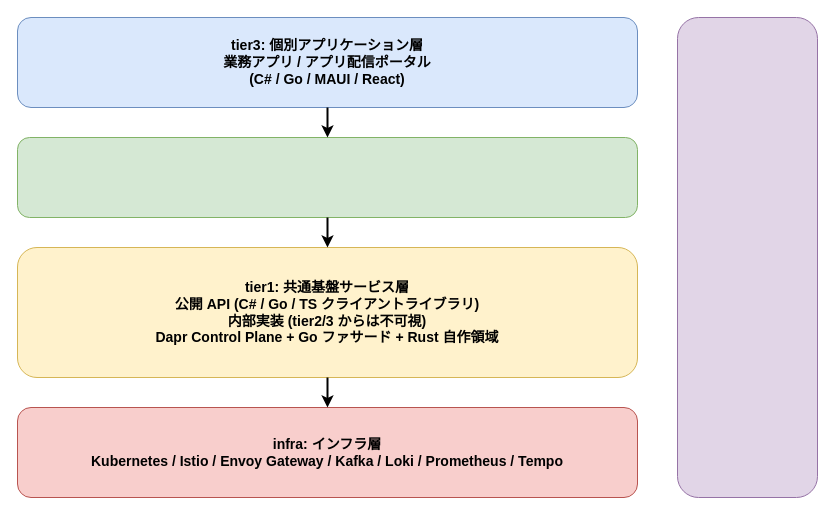
The diagram is 835 pixels wide and 515 high, and some of its shapes have lost their labels. The shapes that lost their labels are listed below. From the top down, each one's box as (x1, y1, x2, y2) in pixels, then its label:
(16, 136, 638, 218): tier2: ドメインサービス層 業務ドメインロジック (C# / Go 自由)
(676, 16, 818, 498): operation 運用 / 監視 / オンコール / リリース管理 (横断)
